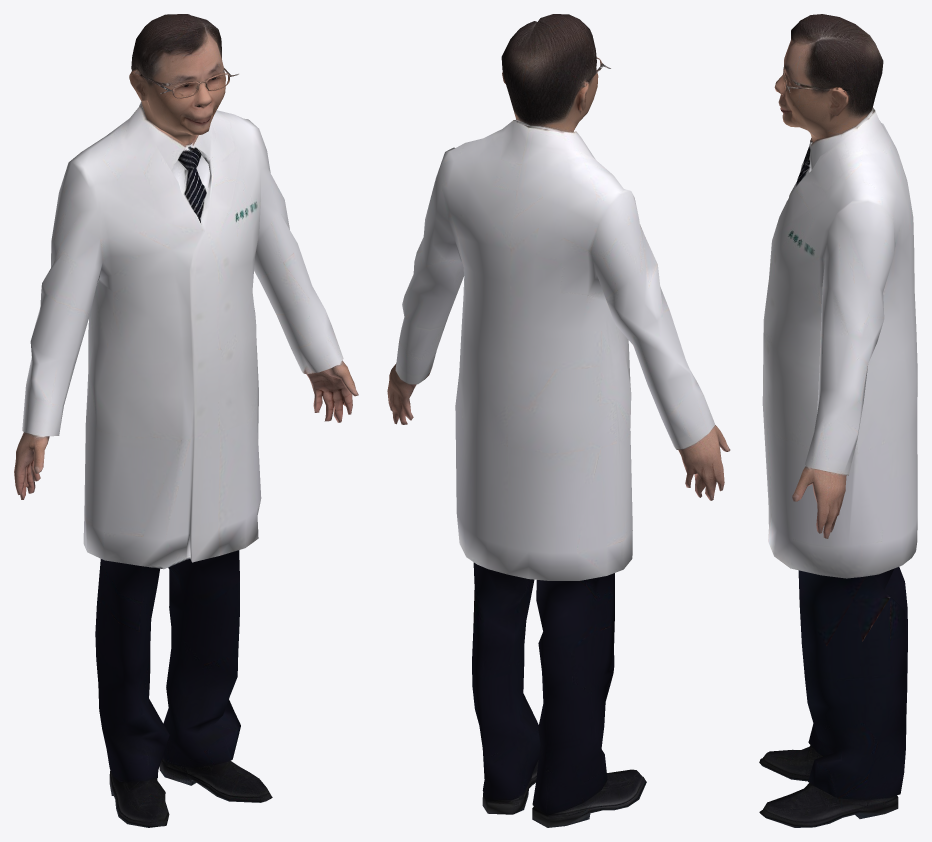
File: vice3d.glb
3 views of the same model, side by side, from view 1: azimuth 30°, elevation 25°; view 2: azimuth 150°, elevation 25°; view 3: azimuth 270°, elevation 25° (orthographic).
Size of the model in its own units: 0.8584 by 1.9 by 0.3525.
Materials: 1 (1 with a texture image).
